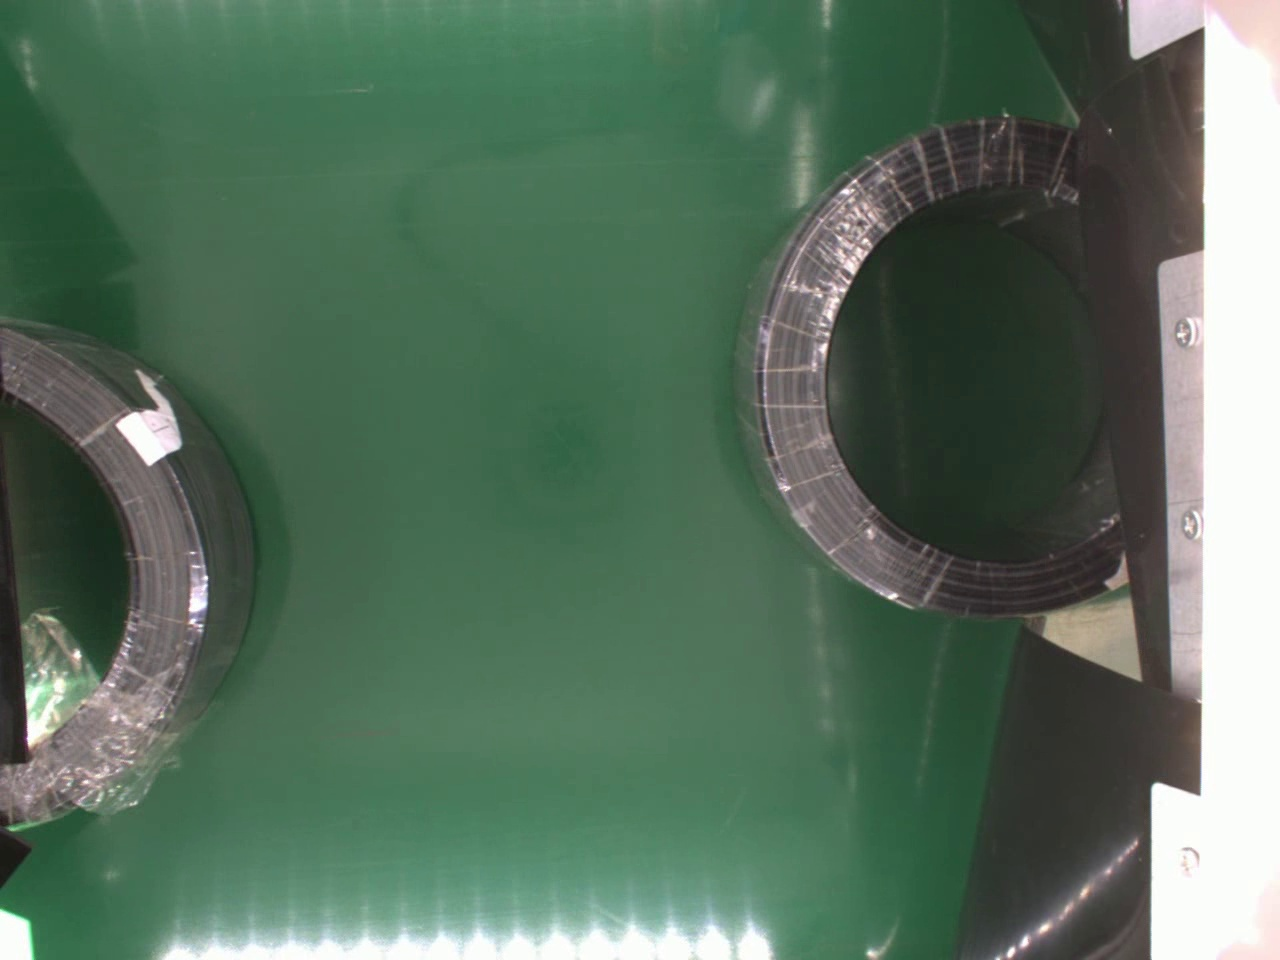black: (730, 112, 1130, 619), (0, 314, 264, 829)
